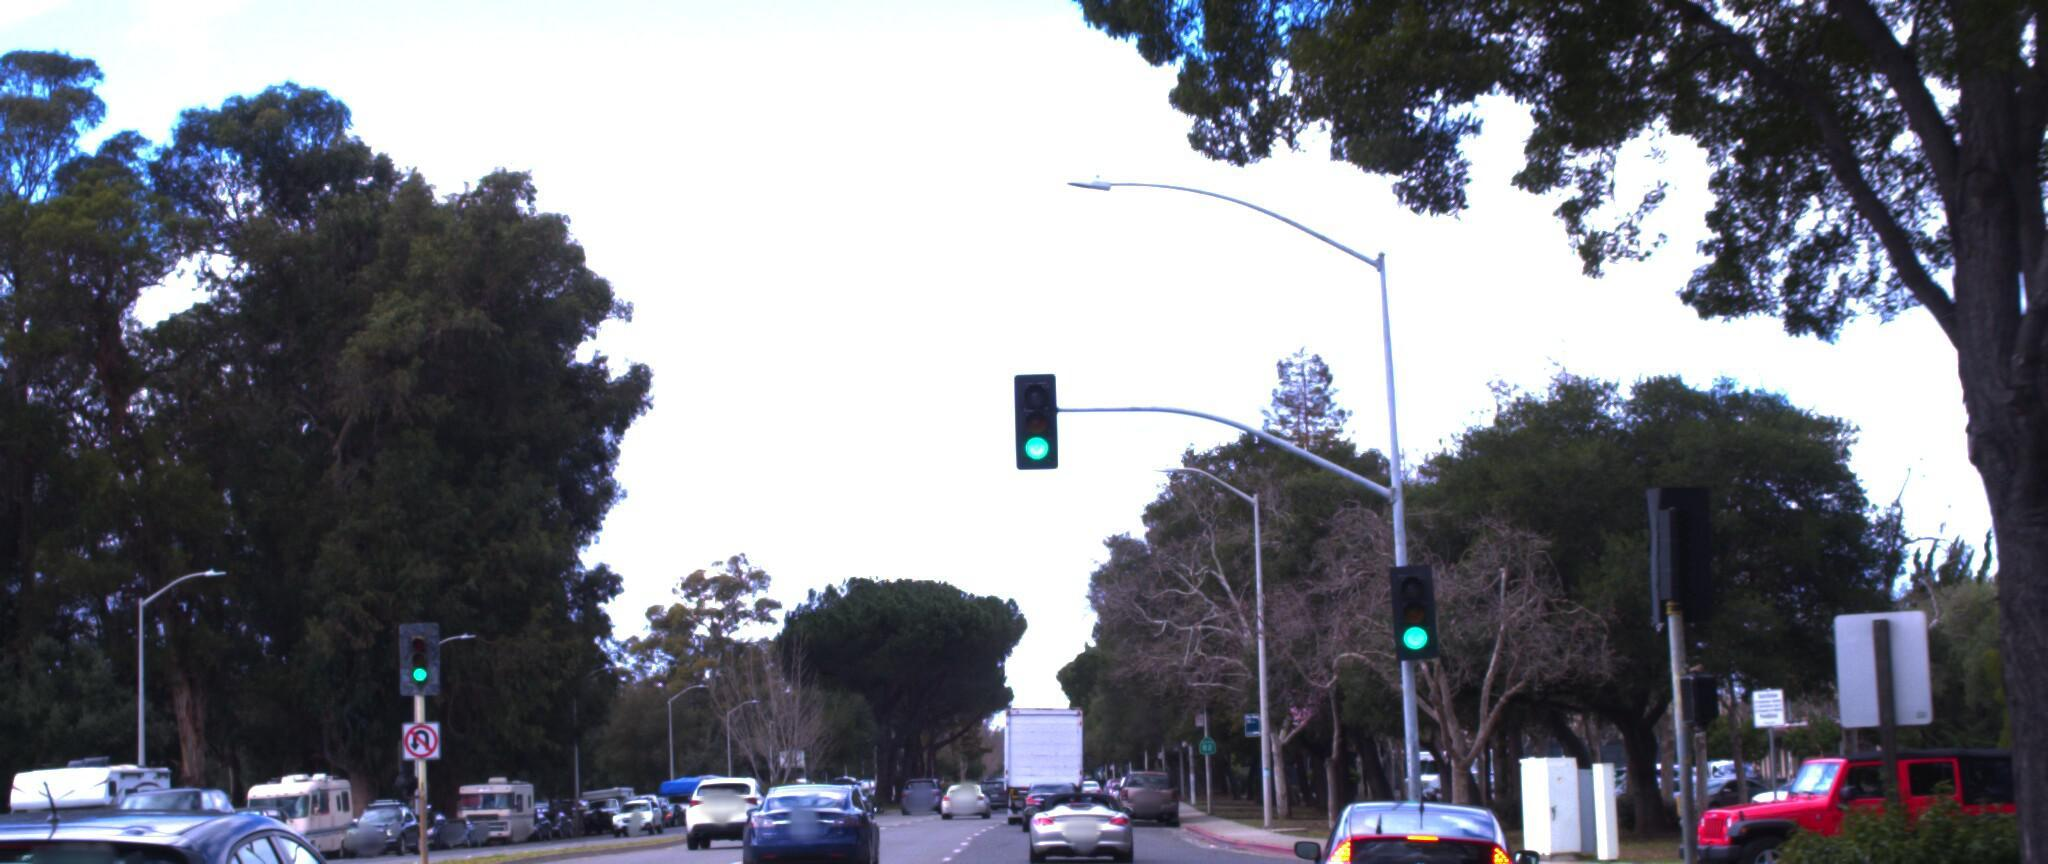car: (1637, 722, 2048, 864), (0, 782, 469, 864), (1266, 770, 1544, 864), (734, 765, 882, 864), (1011, 750, 1136, 854), (679, 747, 782, 827)
other_vehicle: (0, 724, 185, 864)
